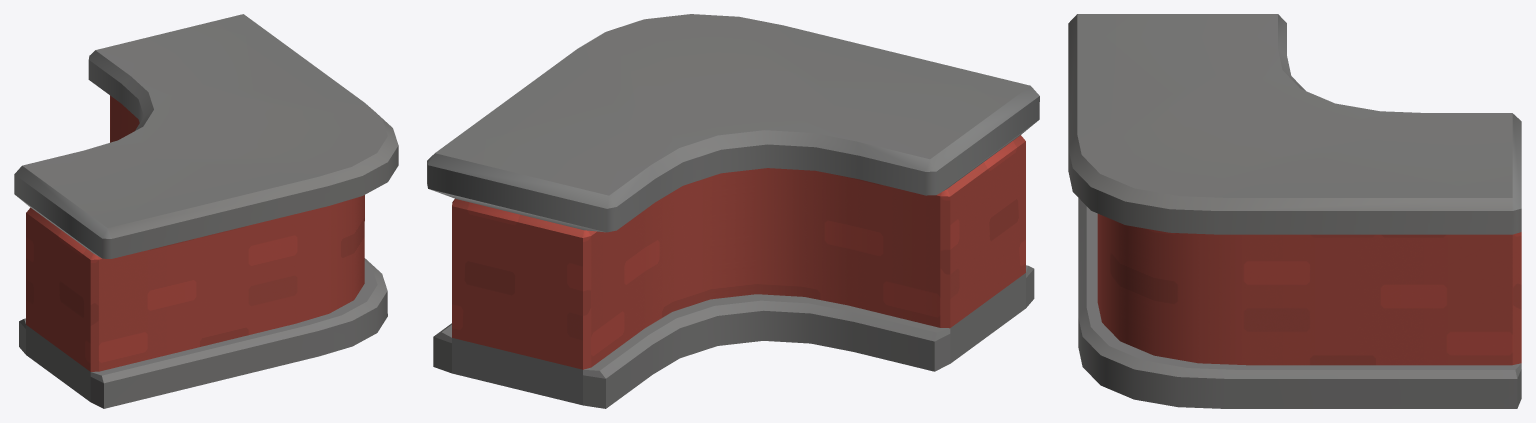
File: BrickWall_2_1.fbx
The picture shows the model from 3 angles, left to right: view 1: azimuth 30°, elevation 25°; view 2: azimuth 150°, elevation 25°; view 3: azimuth 270°, elevation 25°; orthographic projection. The views are drawn at different scales.
Visible parts, largest first — view 1: BrickWall_2_1; view 2: BrickWall_2_1; view 3: BrickWall_2_1.
Part boxes in pixels (box(x1,y1,x2,y2)): BrickWall_2_1: box(14, 14, 398, 408); BrickWall_2_1: box(427, 14, 1039, 408); BrickWall_2_1: box(1068, 14, 1521, 408).
Size of the model in its own units: 132 by 67.83 by 132.
